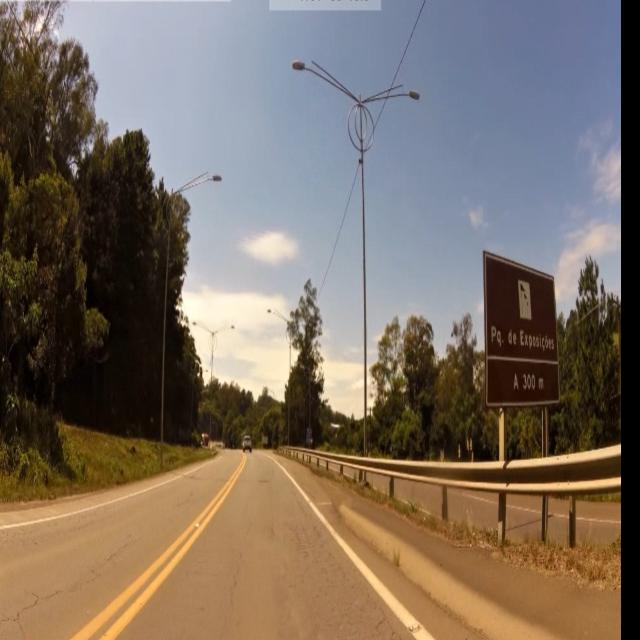TUR-4: (483, 255, 563, 407)
